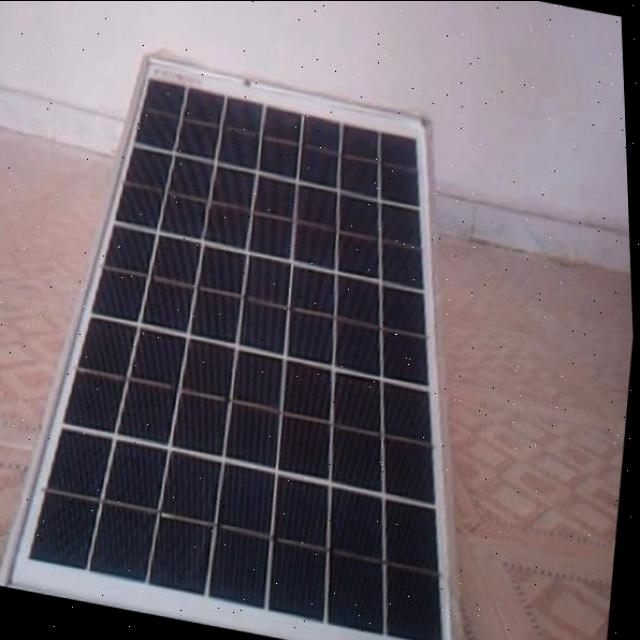Normal Solar Panel: (0, 36, 526, 640)
